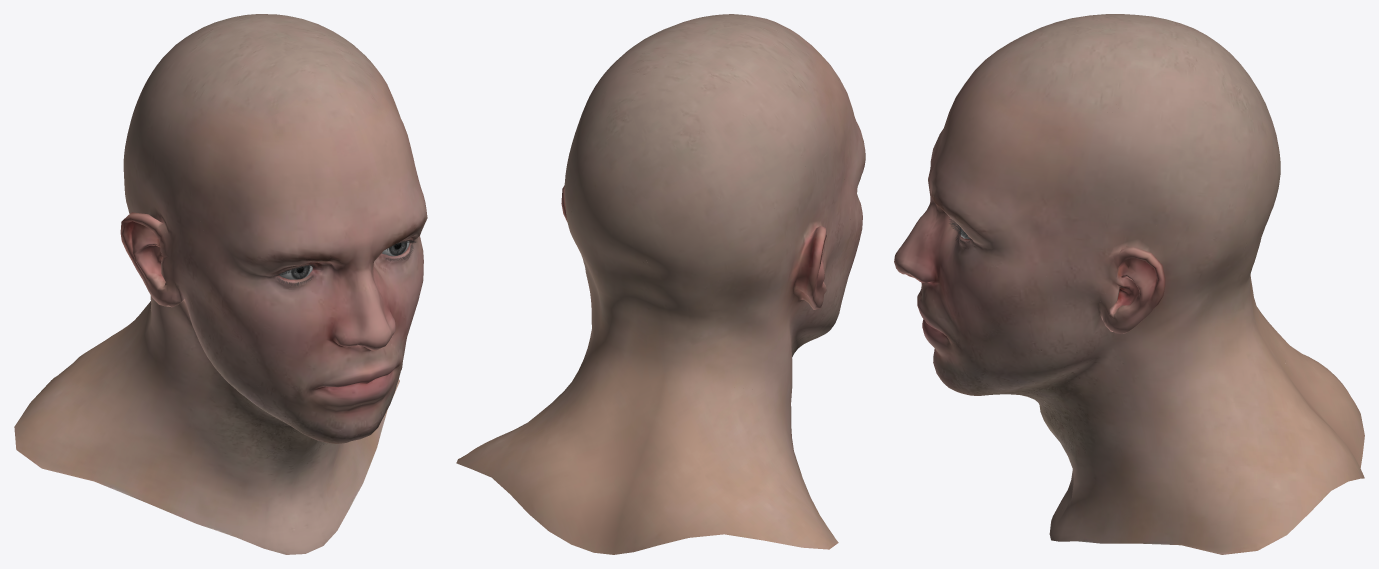
The model's file is 真人头像_男_光头中年男子01_opt.glb.
The picture shows the model from 3 angles, left to right: view 1: azimuth 30°, elevation 25°; view 2: azimuth 150°, elevation 25°; view 3: azimuth 270°, elevation 25°; orthographic projection. The views are drawn at different scales.
Parts seen in each view (by area): view 1: polySurface5_blinn4_0, polySurface5_OrangOetan__LOW_Oog_binnen1_0, polySurface5_blinn4_0_1; view 2: polySurface5_blinn4_0, polySurface5_blinn4_0_1; view 3: polySurface5_blinn4_0, polySurface5_blinn4_0_1.
Part boxes in pixels (x1,y1,x2,y2): polySurface5_blinn4_0: (14, 14, 427, 554); polySurface5_OrangOetan__LOW_Oog_binnen1_0: (279, 241, 409, 279); polySurface5_blinn4_0_1: (126, 136, 403, 407); polySurface5_blinn4_0: (456, 14, 865, 554); polySurface5_blinn4_0_1: (563, 80, 850, 488); polySurface5_blinn4_0: (894, 14, 1364, 554); polySurface5_blinn4_0_1: (909, 84, 1320, 383).
Size of the model in its own units: 0.2366 by 0.3 by 0.2534.
4 materials, 4 textured.
